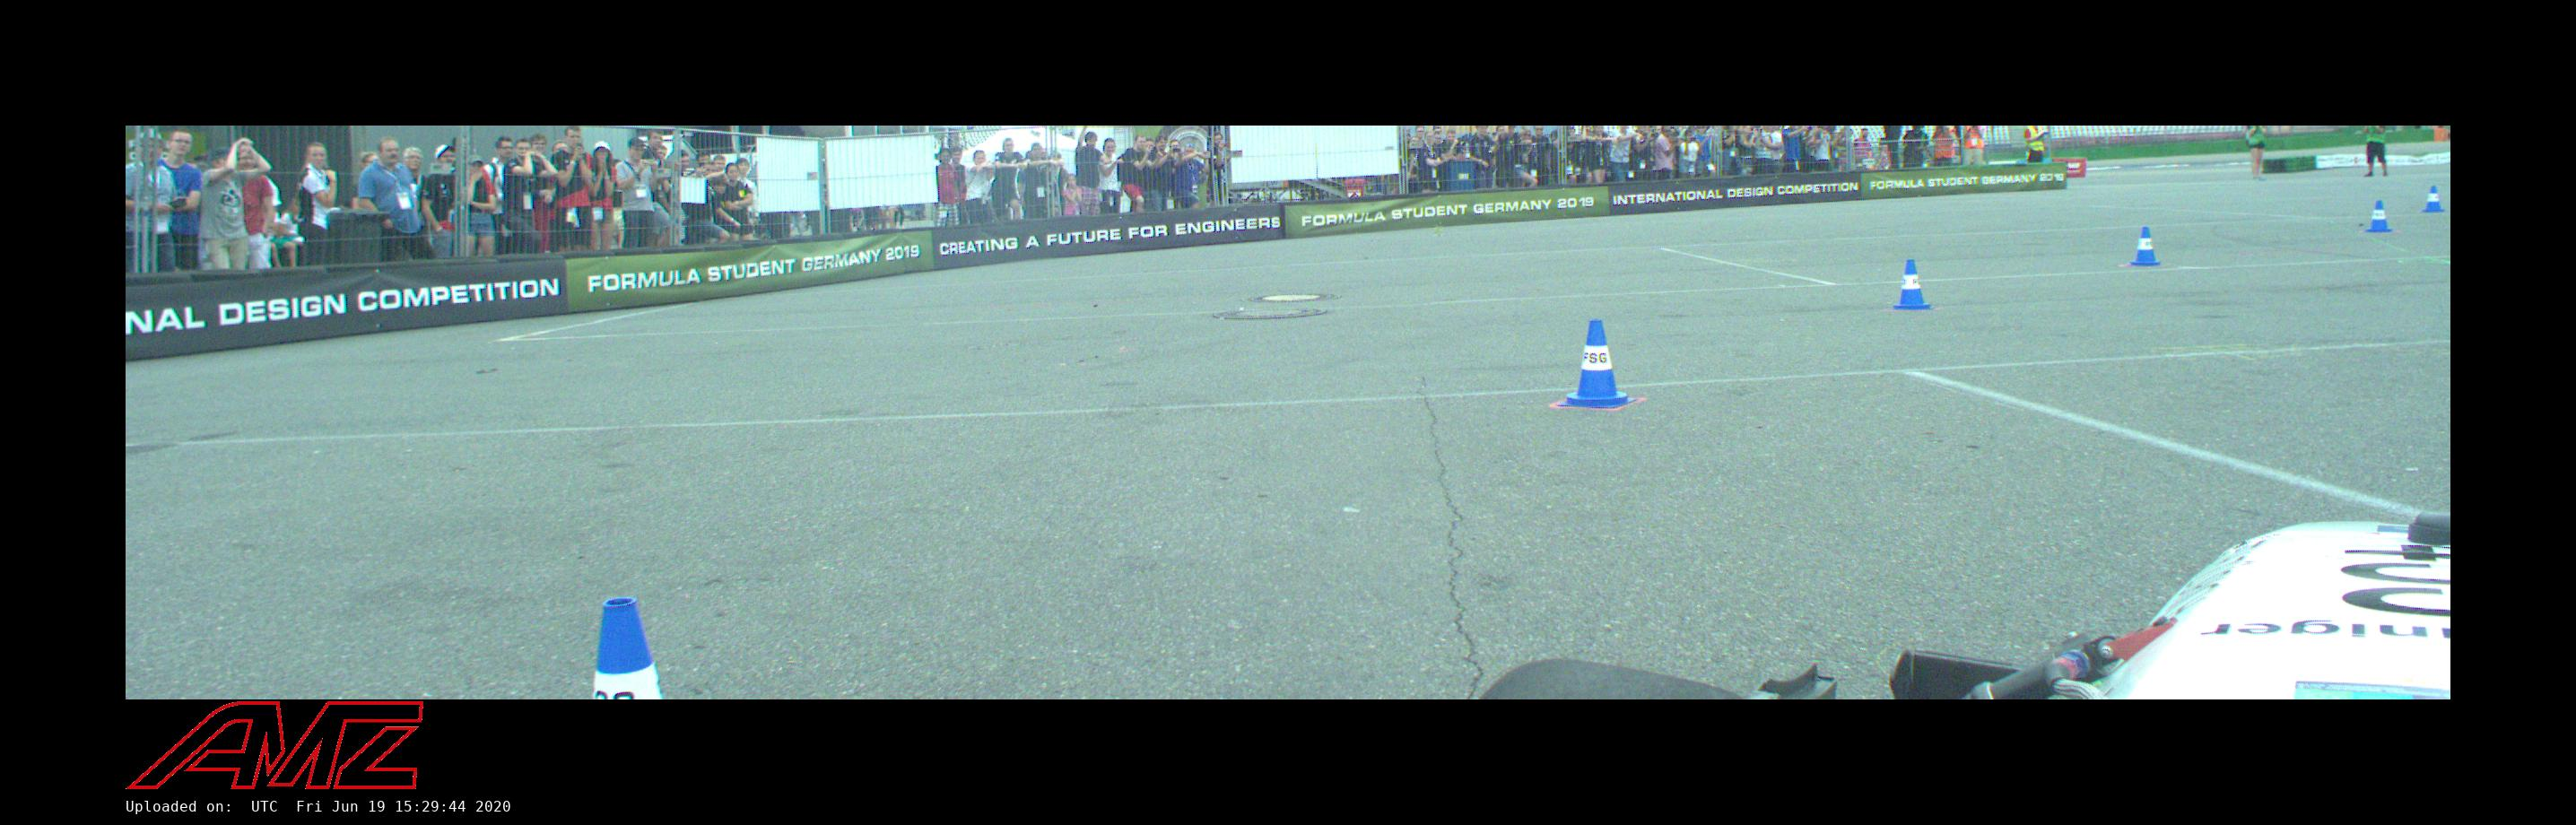blue_cone: (593, 597, 665, 698), (1557, 319, 1636, 408), (1893, 260, 1932, 309), (2131, 227, 2160, 266), (2366, 200, 2394, 233), (2423, 186, 2445, 212)
